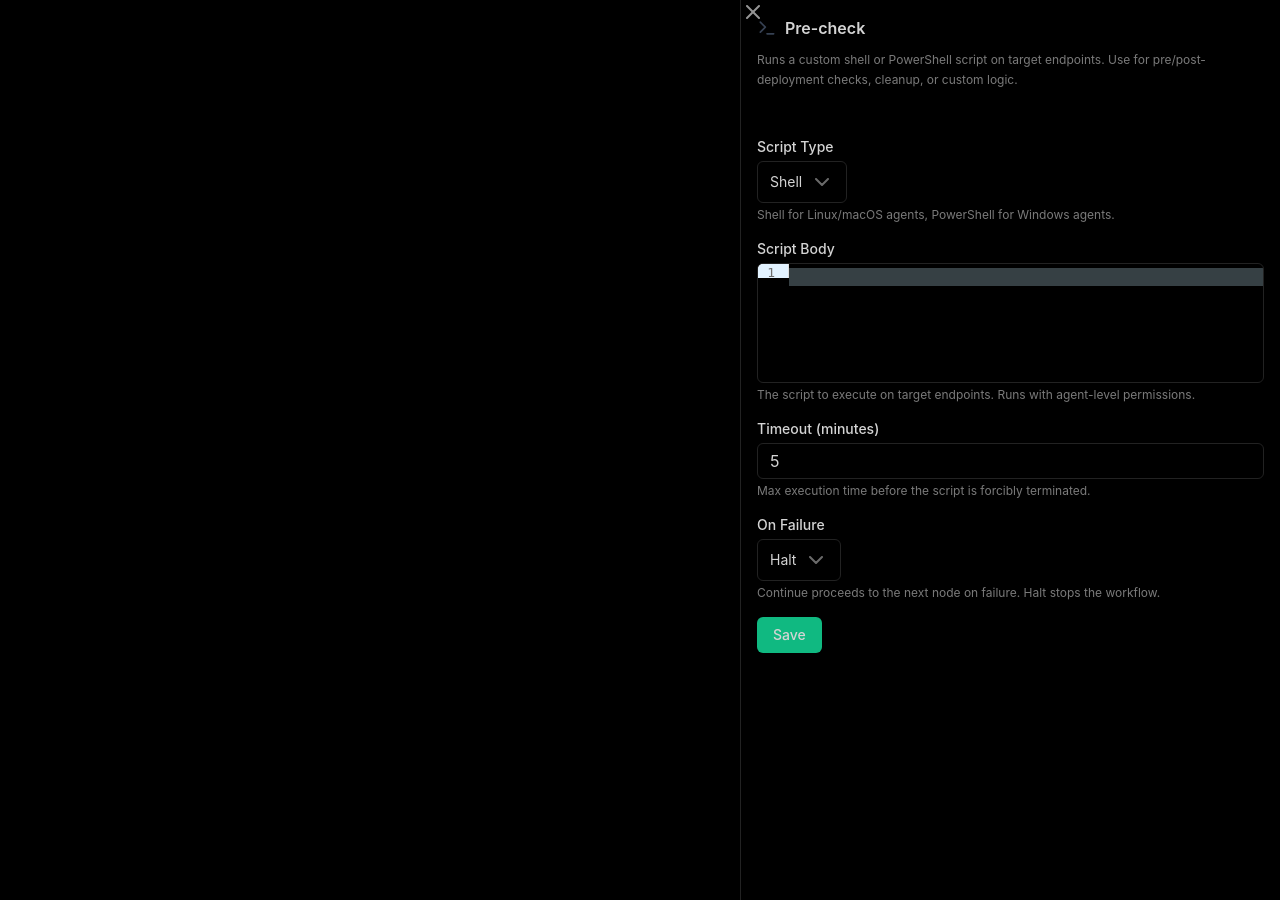
Test case: ConfigPanel › script panel shows validation error for empty body
Click the button "Save". click: (789, 635)
box: [757,617,822,653]
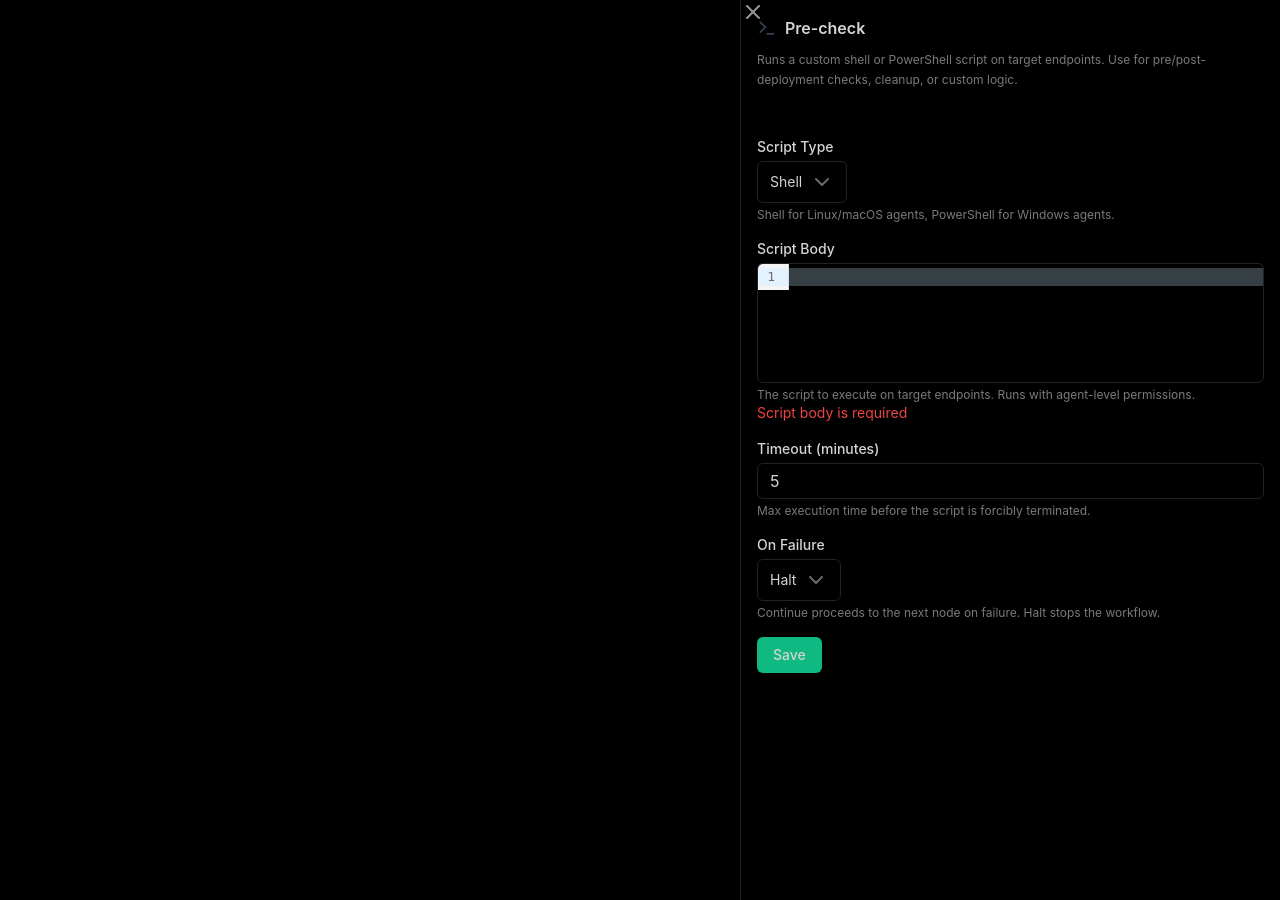
Result: the text "Script body is required" is shown at [757,404,907,421]
